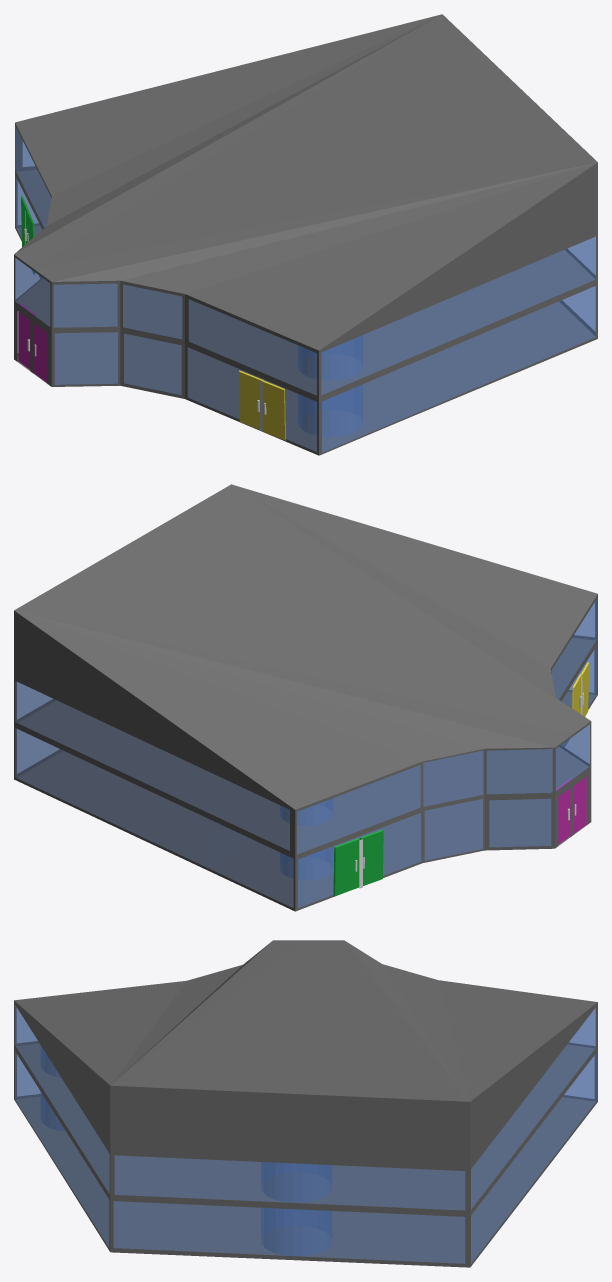
File: Airport buildingv2.fbx
The picture shows the model from 3 angles, top to bottom: view 1: azimuth 30°, elevation 25°; view 2: azimuth 150°, elevation 25°; view 3: azimuth 270°, elevation 25°; orthographic projection. The views are drawn at different scales.
Visible parts, largest first — view 1: Model, Cube_4, Cube_3, Cube_1, Cube_2; view 2: Model, Cube_8_2, Cube_6, Cube_1, Cube_2; view 3: Model.
Boxes of the visible parts, x1,y1,x2,y2 form: Model: (14,14,597,455); Cube_4: (262,380,285,440); Cube_3: (239,370,263,430); Cube_1: (18,302,35,372); Cube_2: (34,323,46,382); Model: (14,484,597,911); Cube_8_2: (333,838,359,896); Cube_6: (360,830,383,885); Cube_1: (556,778,572,844); Cube_2: (573,777,586,833); Model: (14,940,597,1267).
Bounding box in the file's own units: 1160 × 395 × 1253.
